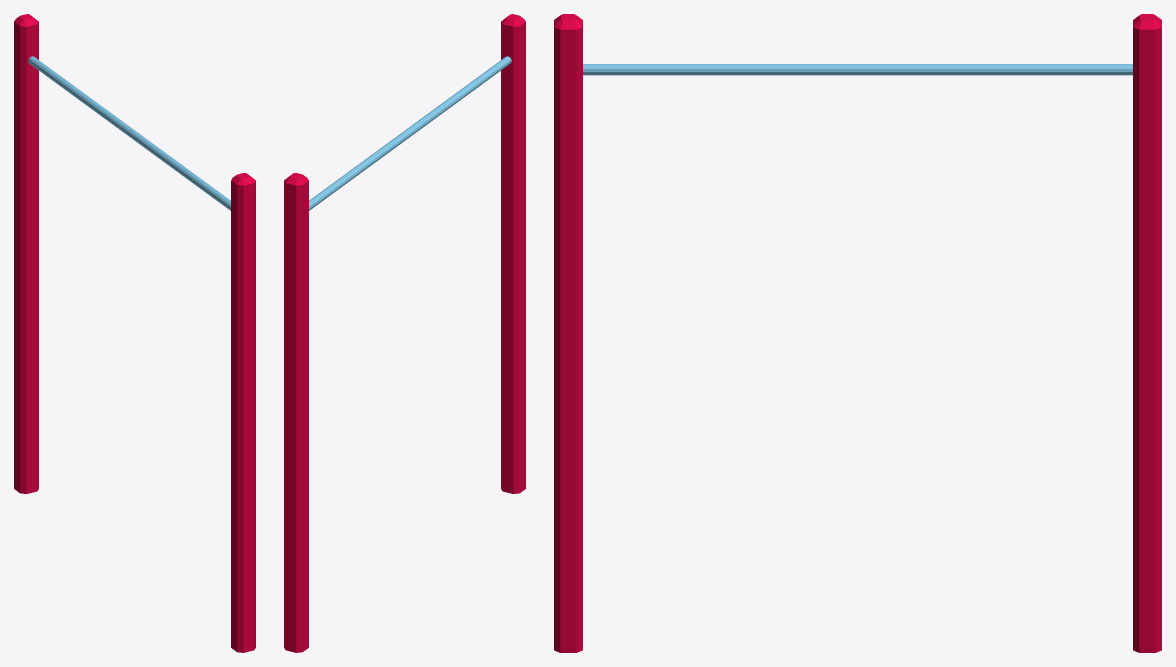
The model's file is Pull Up Bar 1.fbx.
The picture shows the model from 3 angles, left to right: view 1: azimuth 30°, elevation 25°; view 2: azimuth 150°, elevation 25°; view 3: azimuth 270°, elevation 25°; orthographic projection. The views are drawn at different scales.
Visible parts, largest first — view 1: Pull Up Bar 1; view 2: Pull Up Bar 1; view 3: Pull Up Bar 1.
Boxes of the visible parts, x1,y1,x2,y2 form: Pull Up Bar 1: [14, 14, 255, 652]; Pull Up Bar 1: [284, 14, 525, 652]; Pull Up Bar 1: [554, 14, 1161, 652].
Size of the model in its own units: 10 by 240 by 210.
